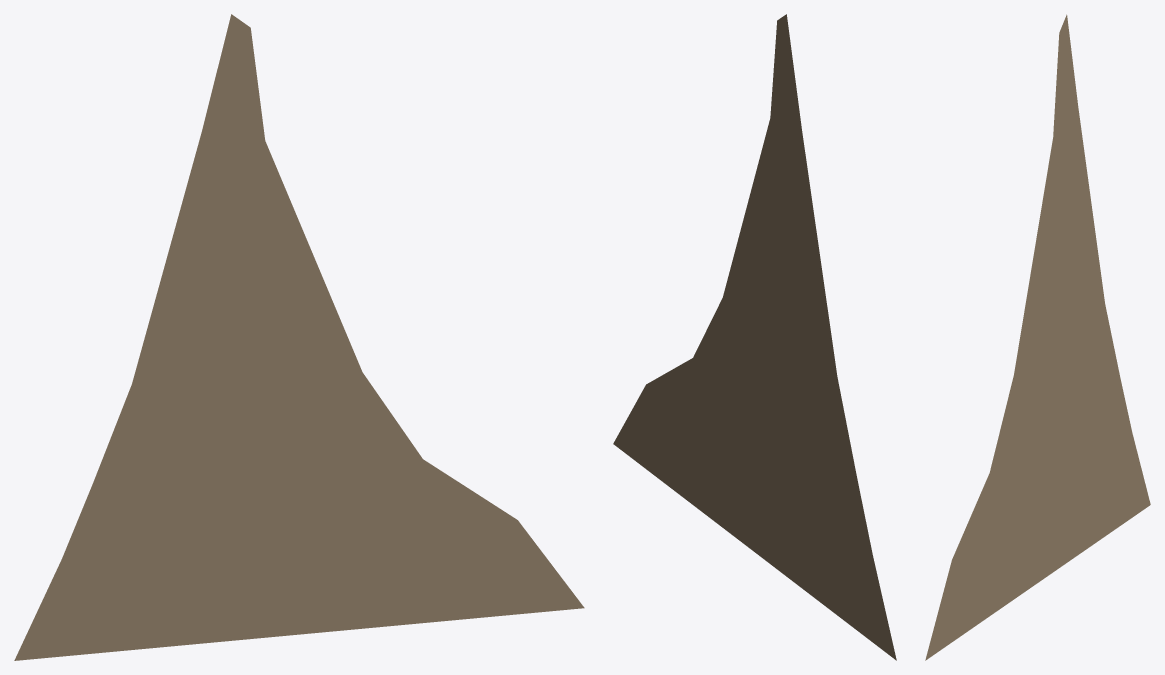
3 renders of one model, left to right at view 1: azimuth 30°, elevation 25°; view 2: azimuth 150°, elevation 25°; view 3: azimuth 270°, elevation 25°, orthographic. The views are drawn at different scales.
Visible parts, largest first — view 1: face1; view 2: face1; view 3: face1.
Boxes of the visible parts, x1,y1,x2,y2 form: face1: [14, 14, 584, 660]; face1: [613, 14, 896, 660]; face1: [925, 14, 1150, 660].
Size of the model in its own units: 0.0446 by 0.0618 by 0.0224.
